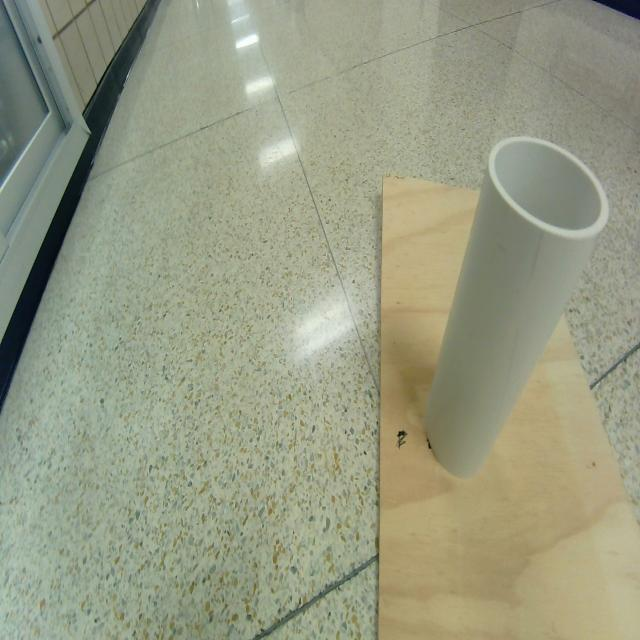coral: (424, 136, 608, 479)
